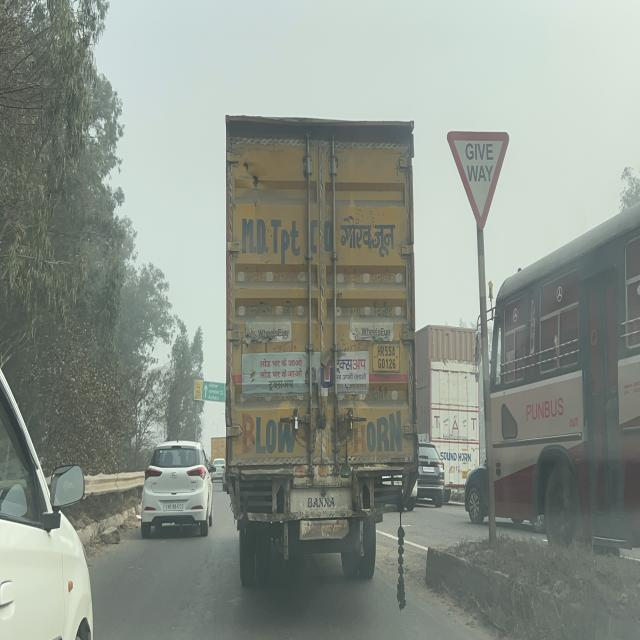GENERAL: (194, 379, 226, 402)
